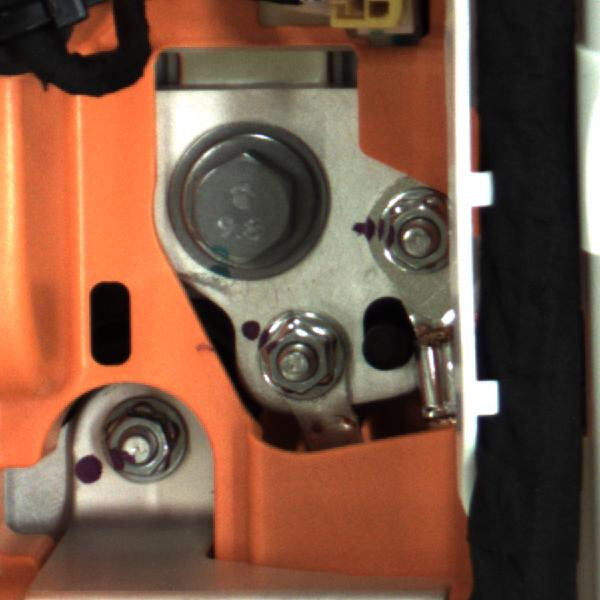nut_b: (169, 131, 332, 276)
screw_s: (99, 392, 204, 483), (254, 314, 350, 409), (375, 192, 463, 269)
